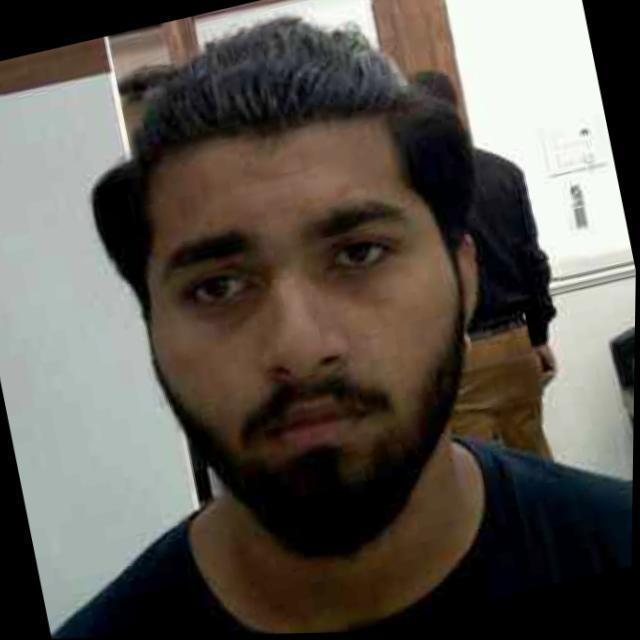puffy_eyes: (209, 280, 271, 331), (320, 271, 388, 308)
